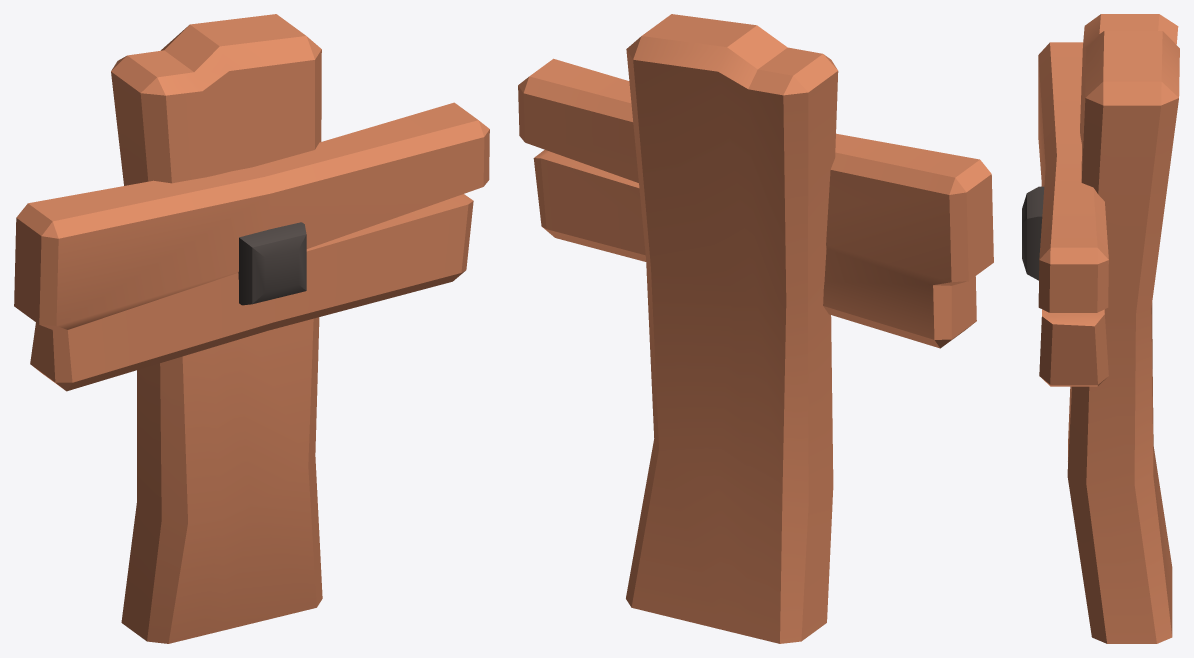
The model's file is cruz_1.fbx.
3 renders of one model, left to right at view 1: azimuth 30°, elevation 25°; view 2: azimuth 150°, elevation 25°; view 3: azimuth 270°, elevation 25°, orthographic. The views are drawn at different scales.
Visible parts, largest first — view 1: cruz_1; view 2: cruz_1; view 3: cruz_1.
Part boxes in pixels (left/top/right/bottom): cruz_1: left=14, top=14, right=489, bottom=643; cruz_1: left=518, top=14, right=993, bottom=643; cruz_1: left=1022, top=14, right=1179, bottom=643.
Bounding box in the file's own units: 202 × 248 × 62.98.
